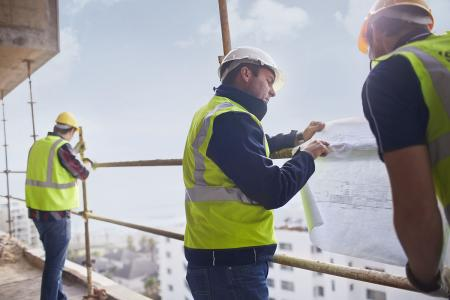hard-hat: (357, 1, 434, 54), (218, 45, 282, 90), (55, 112, 78, 129)
person: (182, 46, 330, 300), (358, 1, 450, 298), (25, 112, 90, 300)
vest: (180, 86, 315, 252), (369, 42, 450, 208), (29, 135, 76, 213)
